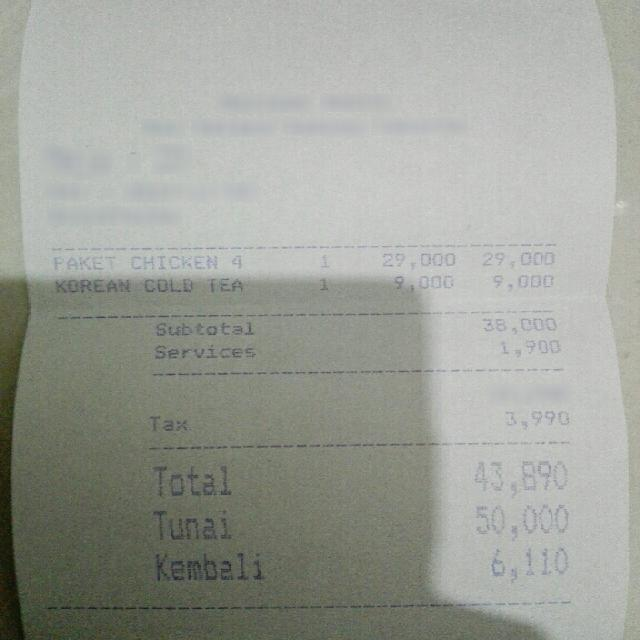kertas: (13, 0, 629, 640)
